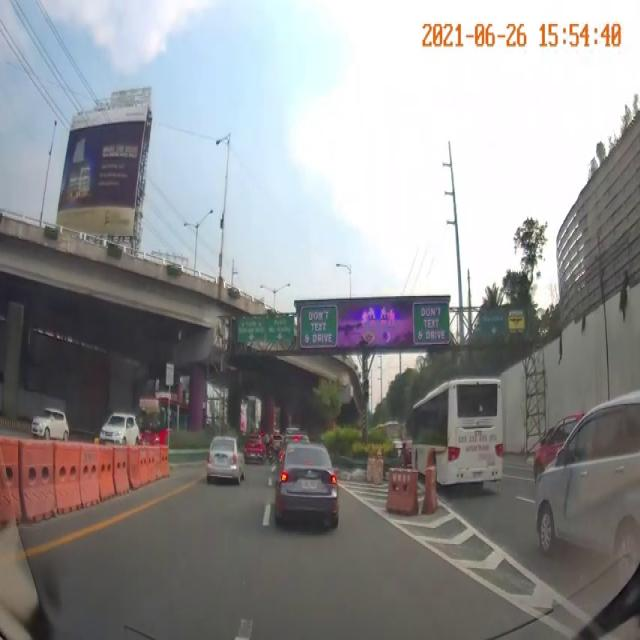bus: (404, 378, 510, 504)
car: (534, 404, 640, 584), (280, 442, 344, 544), (201, 430, 244, 491), (100, 410, 142, 455), (30, 407, 72, 441), (243, 428, 264, 464)
motorcycle: (267, 436, 274, 461)
